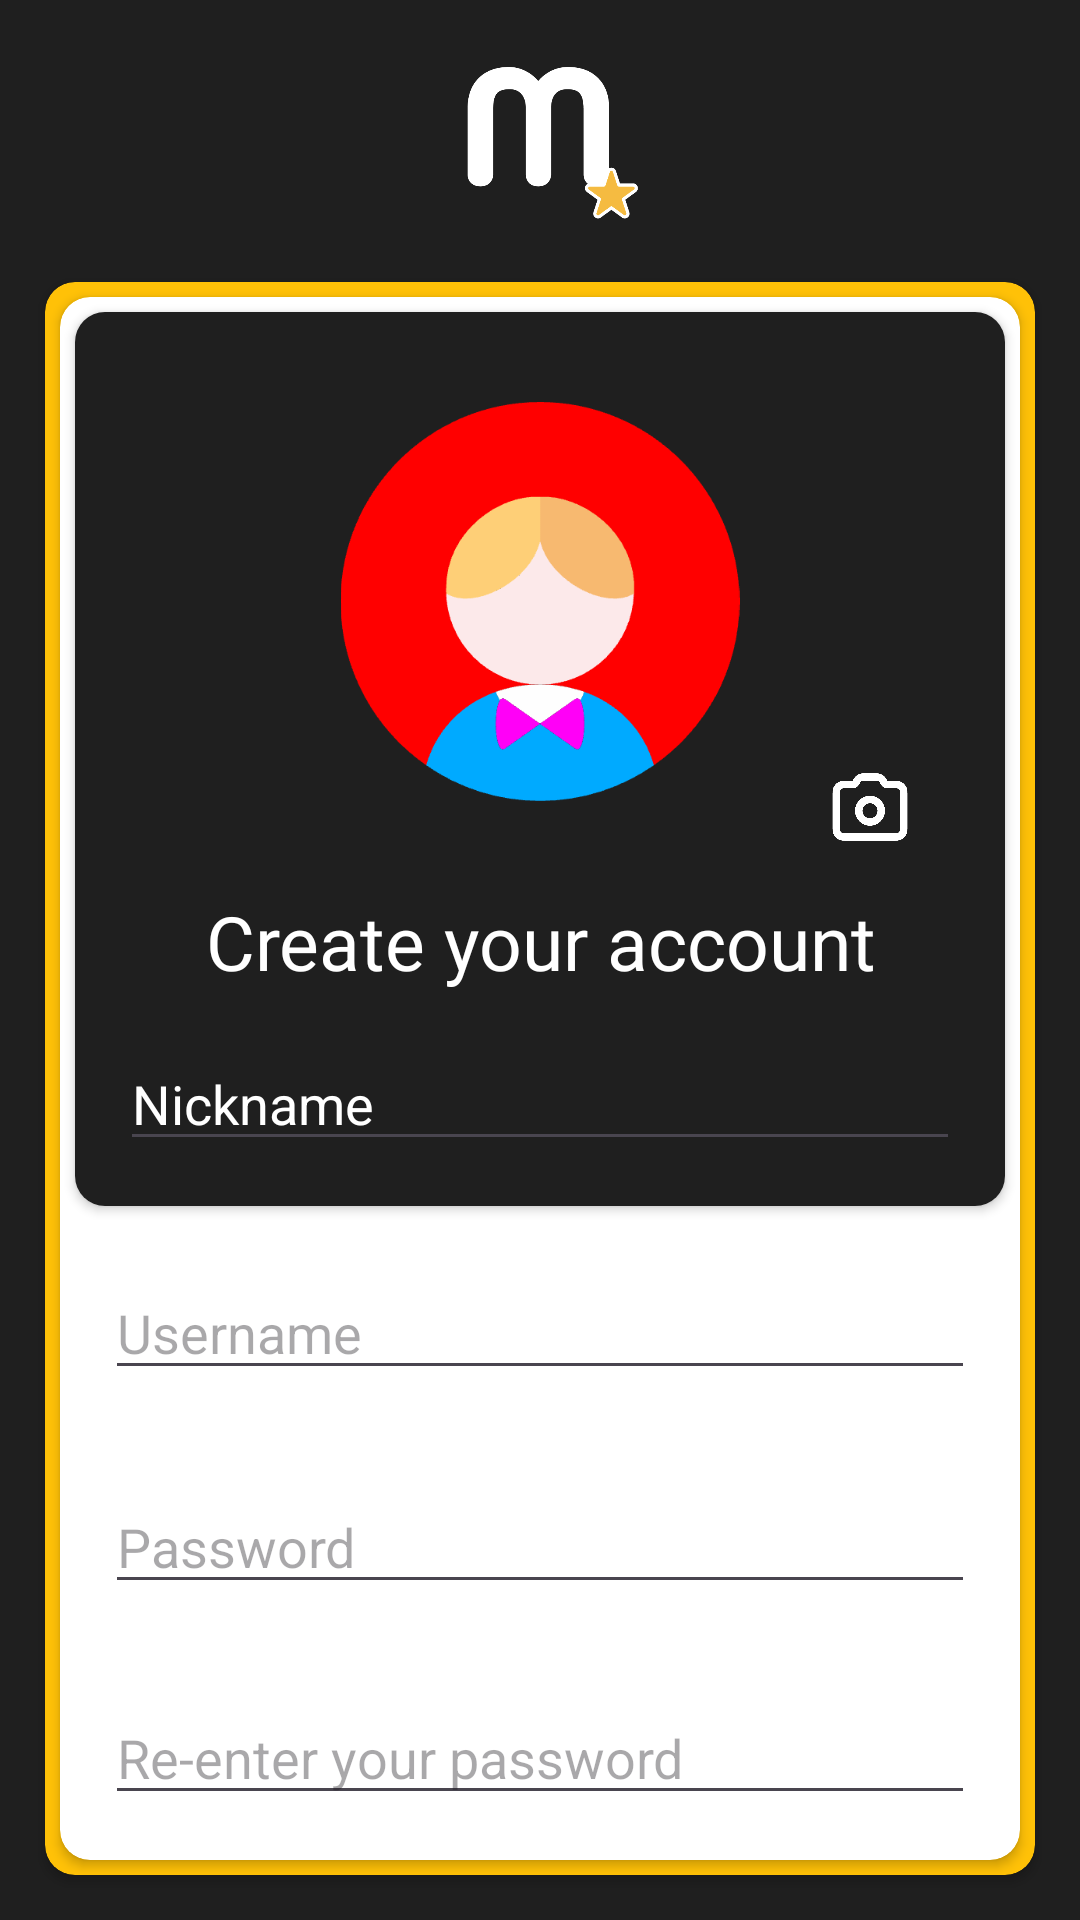

Icons on this 1080px x 1920px Android screen, each with its box as (x1, y1, x2, y2):
camera: (832, 773, 908, 841)
